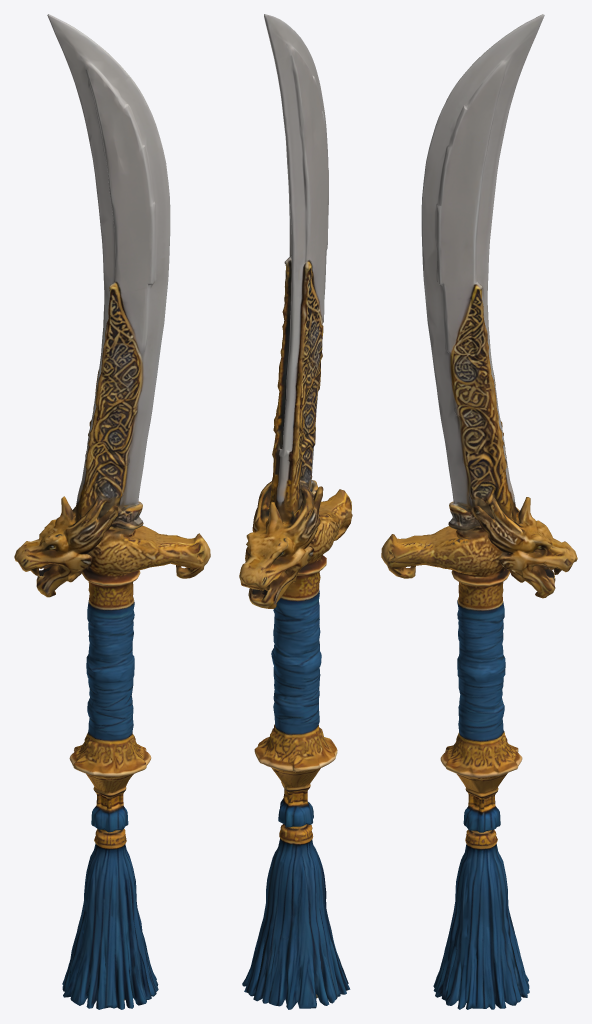
The model's file is look-weapon2-t9-tripo.glb.
3 renders of one model, left to right at view 1: azimuth 90°, elevation 25°; view 2: azimuth 150°, elevation 25°; view 3: azimuth 270°, elevation 25°, orthographic. The views are drawn at different scales.
Parts seen in each view (by area): view 1: tripo_node_672a18b3-ad82-4ea5-8929-ab48dfe89b18; view 2: tripo_node_672a18b3-ad82-4ea5-8929-ab48dfe89b18; view 3: tripo_node_672a18b3-ad82-4ea5-8929-ab48dfe89b18.
Part boxes in pixels (<box>): tripo_node_672a18b3-ad82-4ea5-8929-ab48dfe89b18: <box>14,14,210,1009</box>; tripo_node_672a18b3-ad82-4ea5-8929-ab48dfe89b18: <box>239,14,352,1009</box>; tripo_node_672a18b3-ad82-4ea5-8929-ab48dfe89b18: <box>381,14,577,1009</box>.
Size of the model in its own units: 0.0927 by 1 by 0.1824.
Materials: 1 (1 with a texture image).
